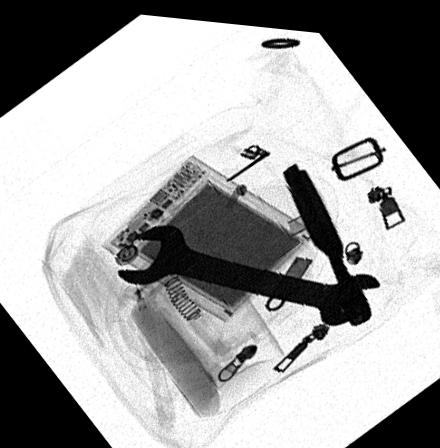Pliers: (278, 158, 374, 317)
Powerbank: (96, 147, 319, 319)
Wrench: (112, 217, 378, 318)
